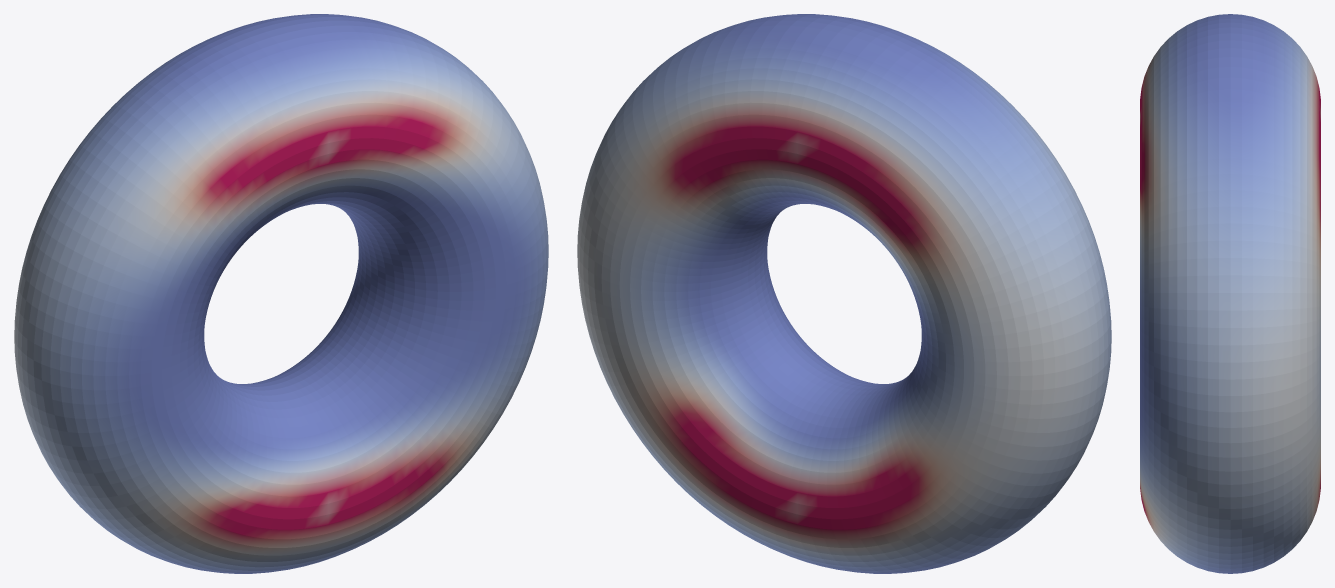
3 renders of one model, left to right at view 1: azimuth 30°, elevation 25°; view 2: azimuth 150°, elevation 25°; view 3: azimuth 270°, elevation 25°, orthographic. The views are drawn at different scales.
Visible parts, largest first — view 1: world; view 2: world; view 3: world.
Part boxes in pixels (x1,y1,x2,y2): world: [14, 14, 548, 573]; world: [577, 14, 1111, 573]; world: [1140, 14, 1320, 573].
Bounding box in the file's own units: 17.73 × 17.73 × 5.72.
